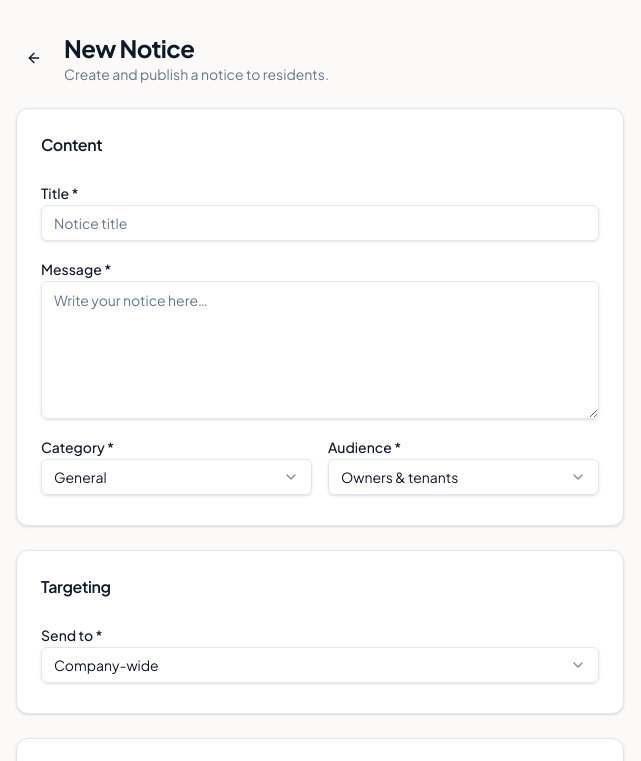
Test: Suite 38-02: Create-notice required-field validation › shows error when body is empty
Step 1. Type "My Notice" into the field with placeholder "Notice title" → x=320, y=223, box [41,205,599,241]
(page scrolled)
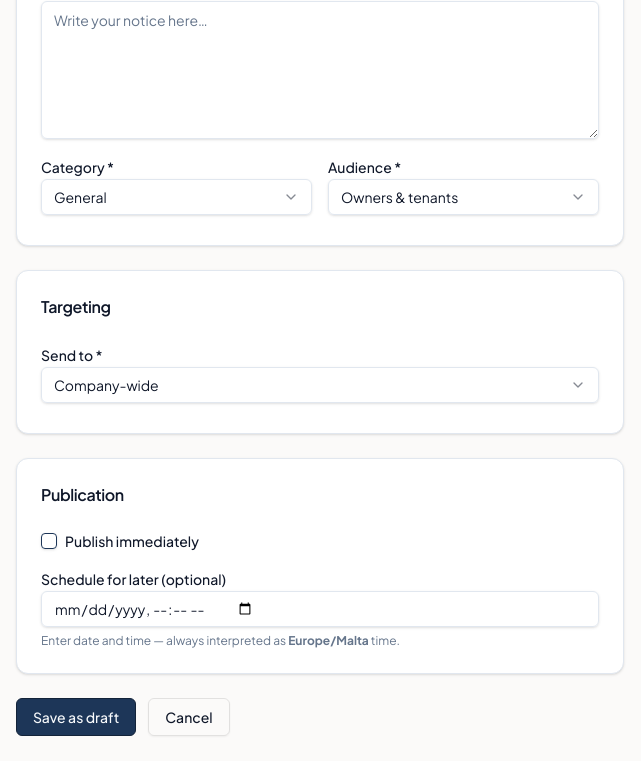
Step 2. Click the button "Save as draft" → x=76, y=717, box [16,698,136,736]
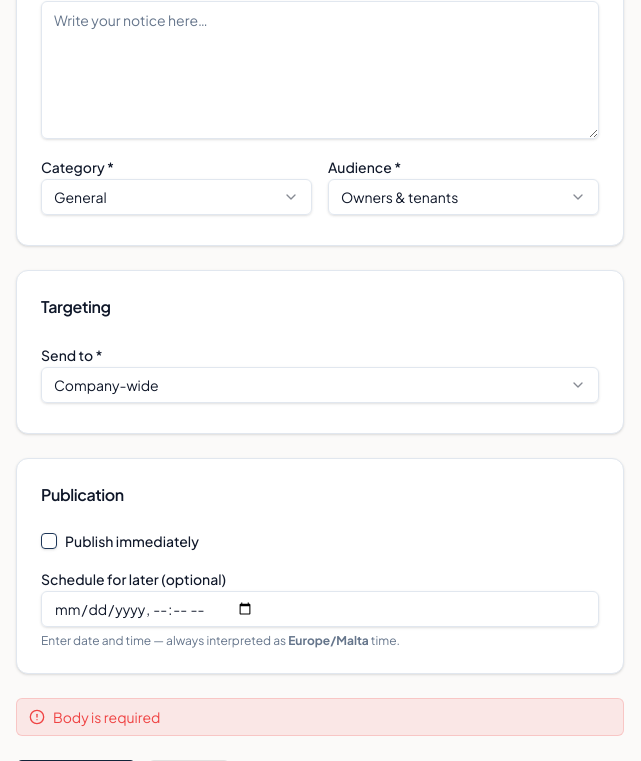
Now the text "Body is required" is shown, box [16,698,624,736]
